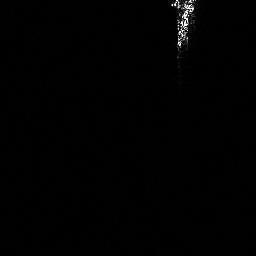ship: (160, 1, 195, 50)
